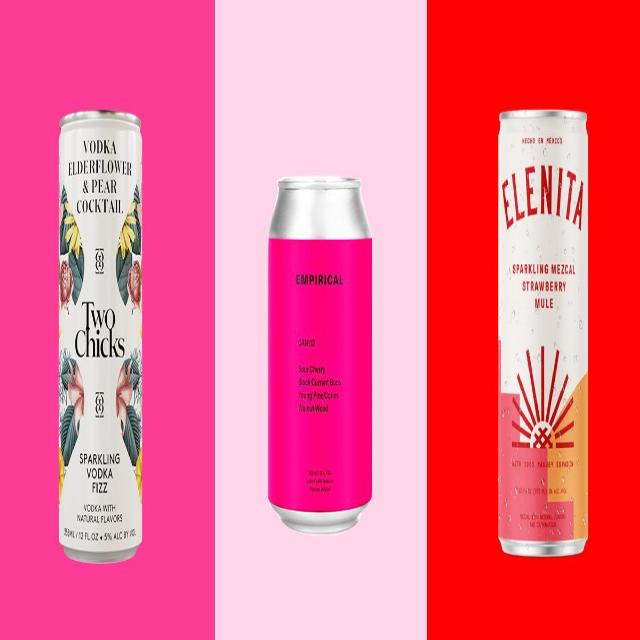Cans: (495, 102, 594, 562), (54, 107, 147, 572), (268, 173, 375, 531)
